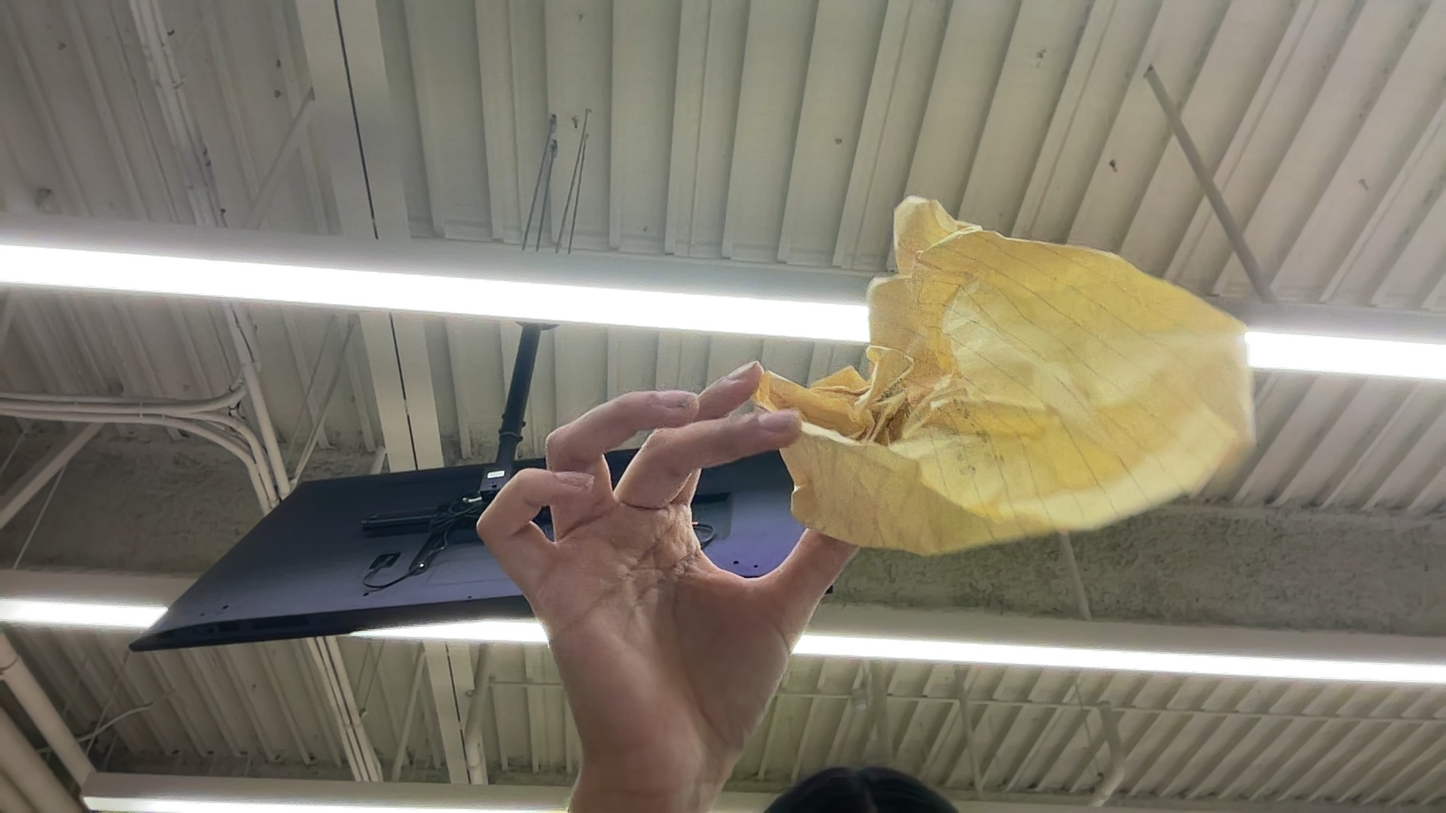Paper: (820, 201, 1281, 550)
